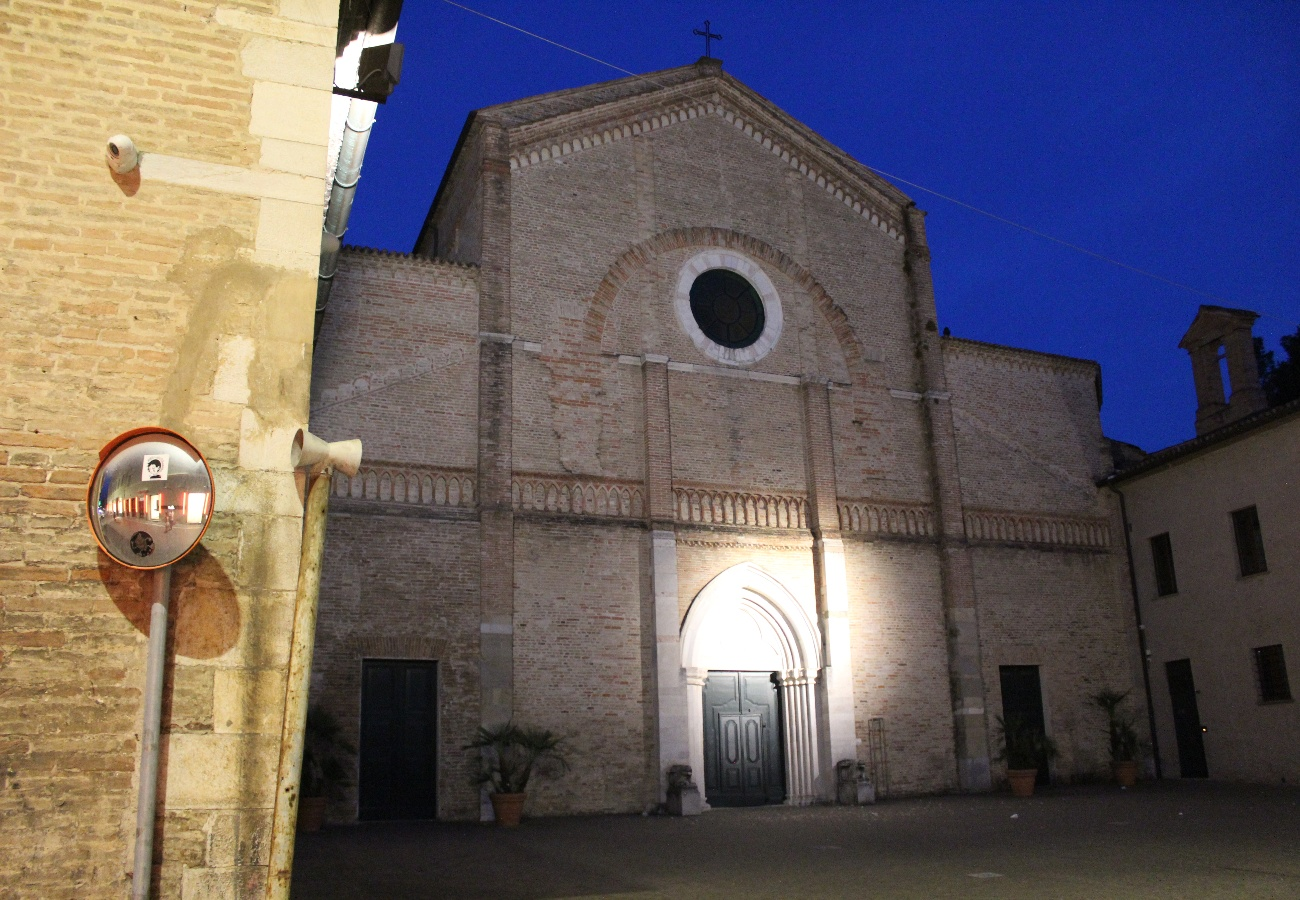Cattedrale Santa Maria Assunta: (300, 1, 1152, 840)
